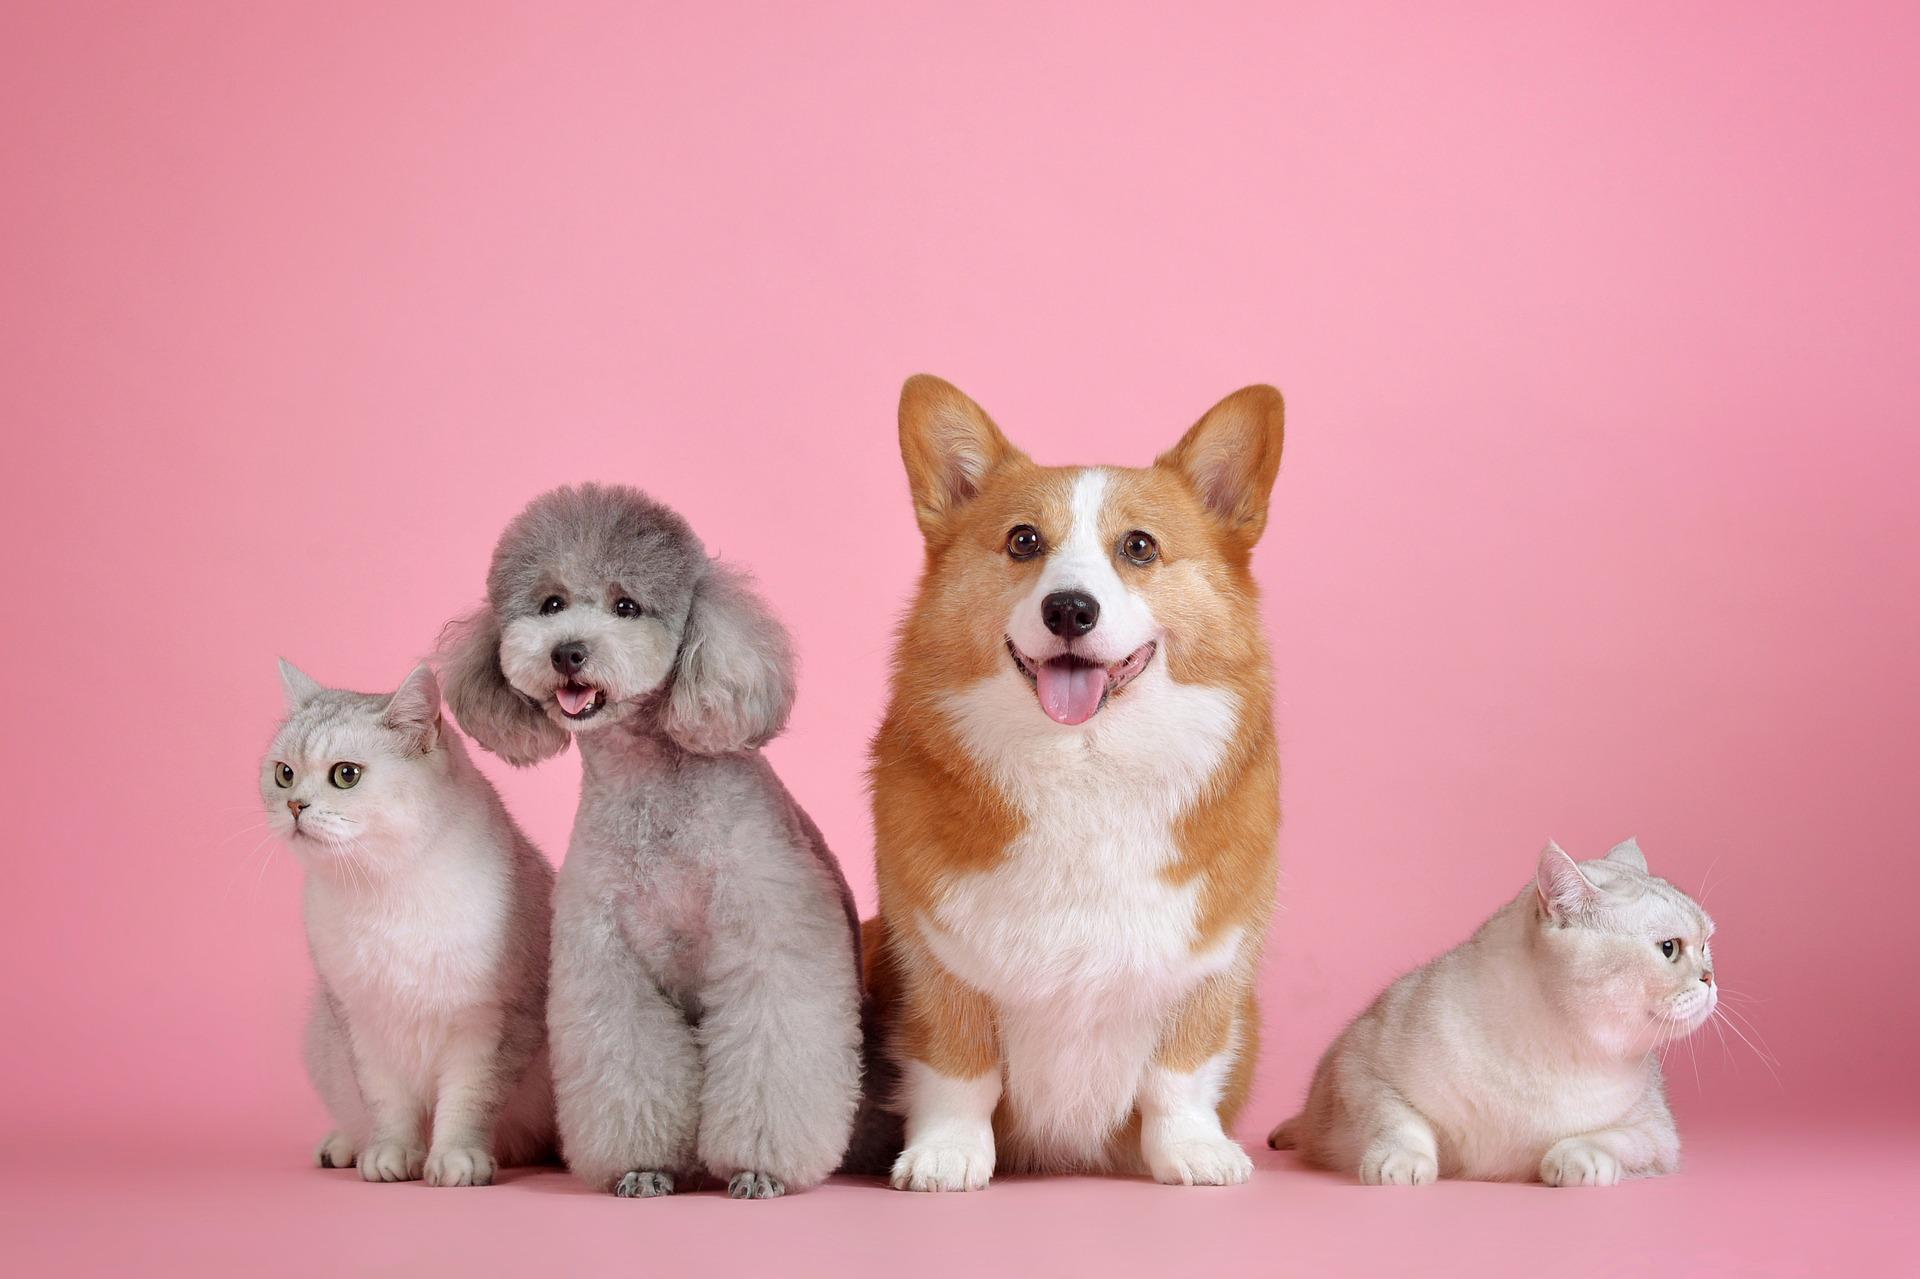cats: (1295, 793, 1736, 1189), (255, 640, 508, 1205)
dogs: (853, 337, 1324, 1205), (470, 463, 875, 1218)
